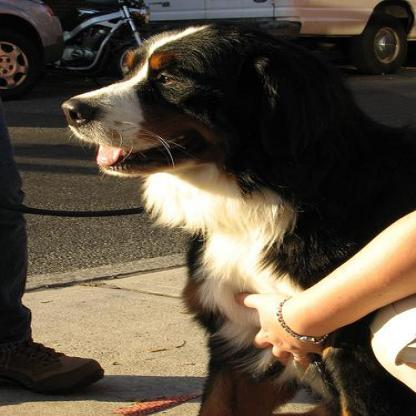Bernese_mountain_dog: (60, 12, 413, 414)
